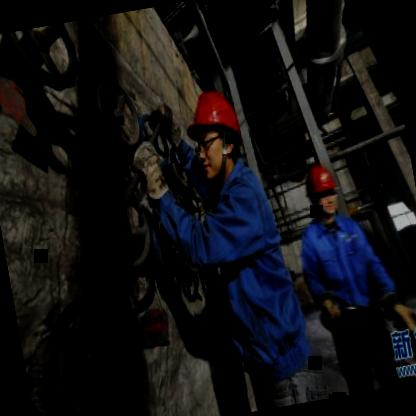helmet: (178, 84, 252, 181), (300, 158, 344, 224)
